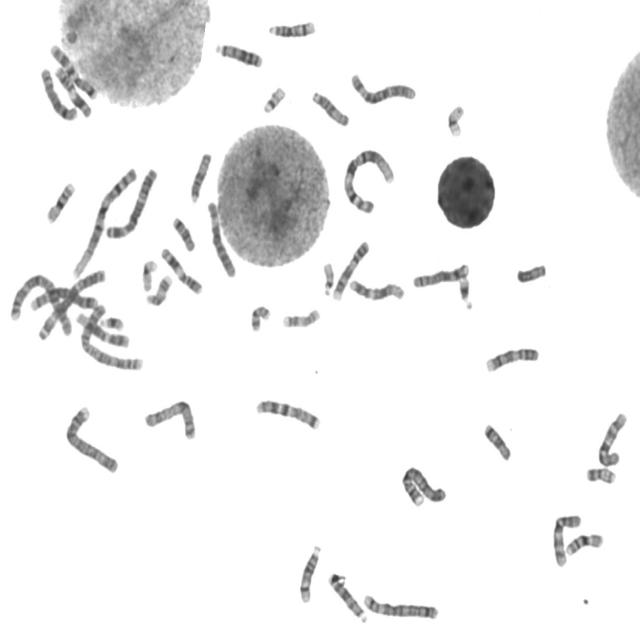A1: (68, 162, 139, 280), (340, 143, 398, 216)
A2: (73, 303, 145, 373), (7, 269, 74, 338)
A3: (34, 266, 106, 341), (102, 162, 159, 240)
B4: (62, 401, 120, 475), (398, 462, 448, 507)
B5: (26, 274, 104, 313), (360, 589, 439, 621)
C10: (595, 408, 629, 468), (550, 508, 583, 568)
C11: (157, 242, 204, 296), (52, 61, 93, 120)
C12: (72, 308, 131, 350), (346, 274, 406, 303)
C6: (204, 196, 238, 279), (347, 68, 418, 105)
C7: (46, 38, 98, 102), (252, 394, 322, 432)
C8: (37, 62, 79, 122), (409, 258, 471, 289)
C9: (329, 236, 371, 302), (481, 342, 541, 374)
D13: (325, 569, 369, 625), (212, 36, 264, 69)
D14: (296, 539, 323, 605), (265, 16, 317, 39)
D15: (308, 86, 351, 128), (186, 148, 213, 205)
E16: (42, 177, 76, 225), (562, 528, 606, 558)
E17: (143, 270, 173, 307), (279, 304, 322, 329)
E18: (480, 418, 512, 462), (169, 211, 196, 253)
F19: (444, 99, 466, 139), (138, 255, 159, 293)
F20: (247, 300, 272, 333), (583, 464, 617, 486)
G21: (456, 273, 474, 312), (97, 313, 125, 332)
G22: (260, 82, 286, 115), (319, 257, 336, 297)
X: (141, 396, 197, 442)
Y: (513, 259, 548, 285)
